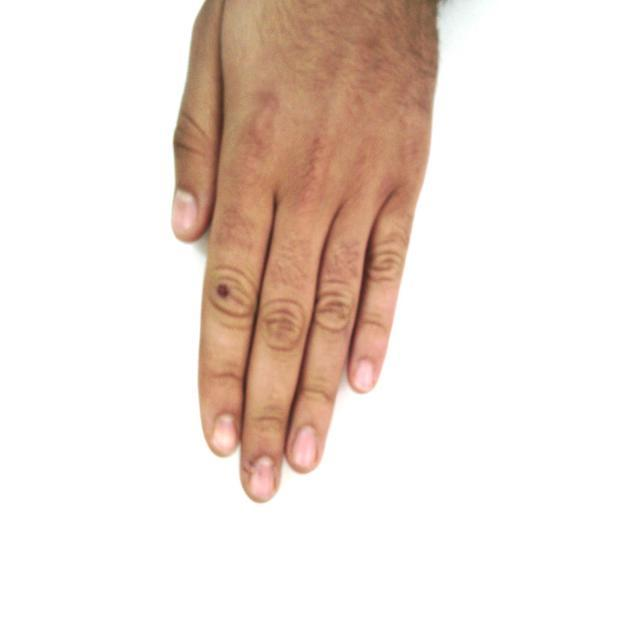Fingernail: (292, 427, 317, 469), (213, 415, 238, 453), (251, 458, 274, 499), (174, 192, 197, 233), (354, 359, 374, 390)
